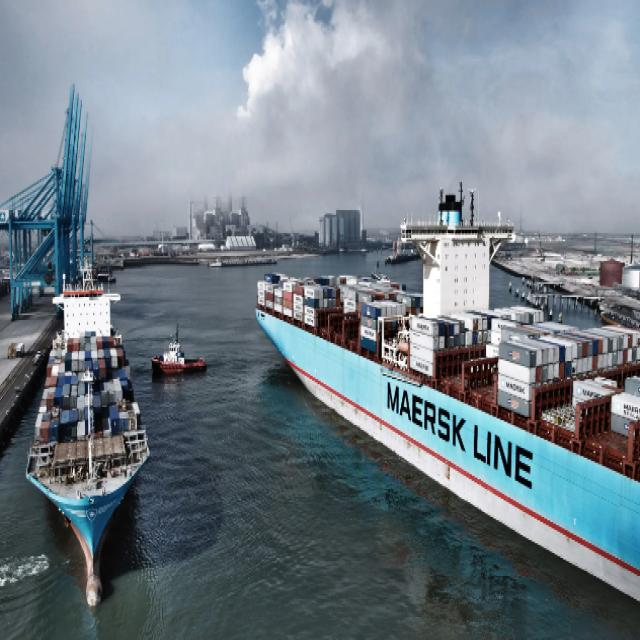cargoship: (254, 263, 640, 612), (27, 264, 147, 612), (151, 322, 205, 377)
